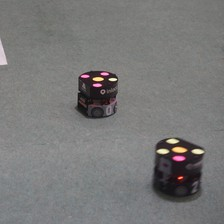robot: (147, 133, 208, 201), (73, 66, 121, 120)
